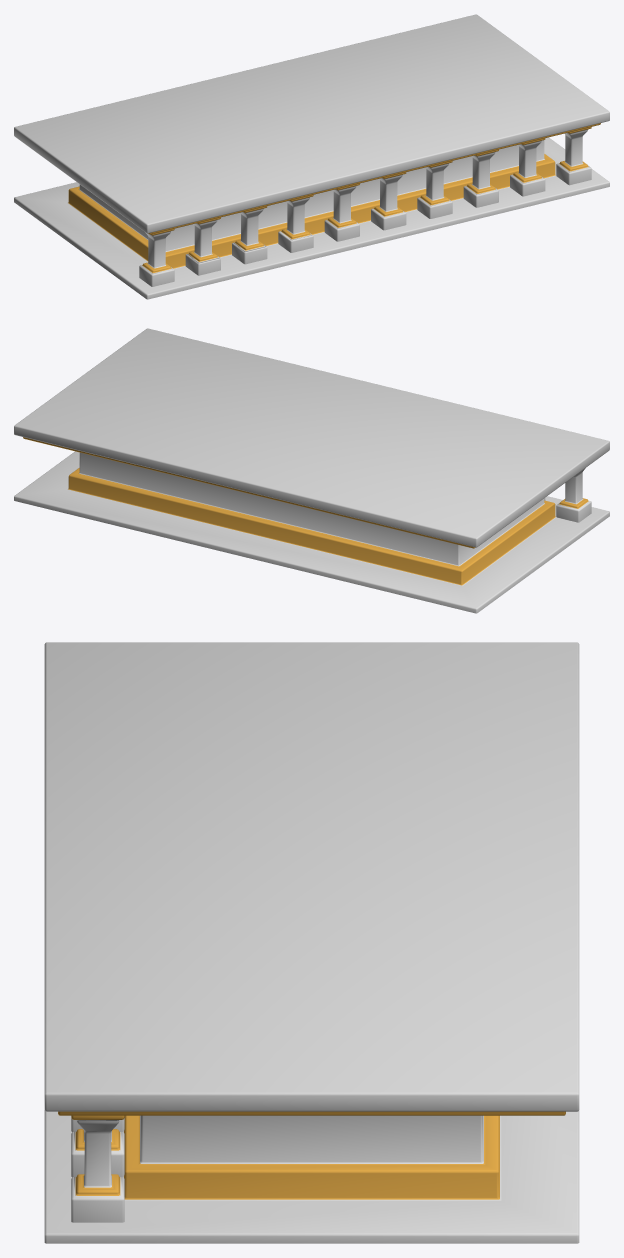
The model's file is Altar.fbx.
3 renders of one model, top to bottom at view 1: azimuth 30°, elevation 25°; view 2: azimuth 150°, elevation 25°; view 3: azimuth 270°, elevation 25°, orthographic. The views are drawn at different scales.
Visible parts, largest first — view 1: Altar_1; view 2: Altar_1; view 3: Altar_1.
Part boxes in pixels (bbox=[...]): Altar_1: bbox=[14, 14, 609, 299]; Altar_1: bbox=[14, 328, 609, 613]; Altar_1: bbox=[44, 642, 579, 1243].
Size of the model in its own units: 2000 by 310 by 1000.
